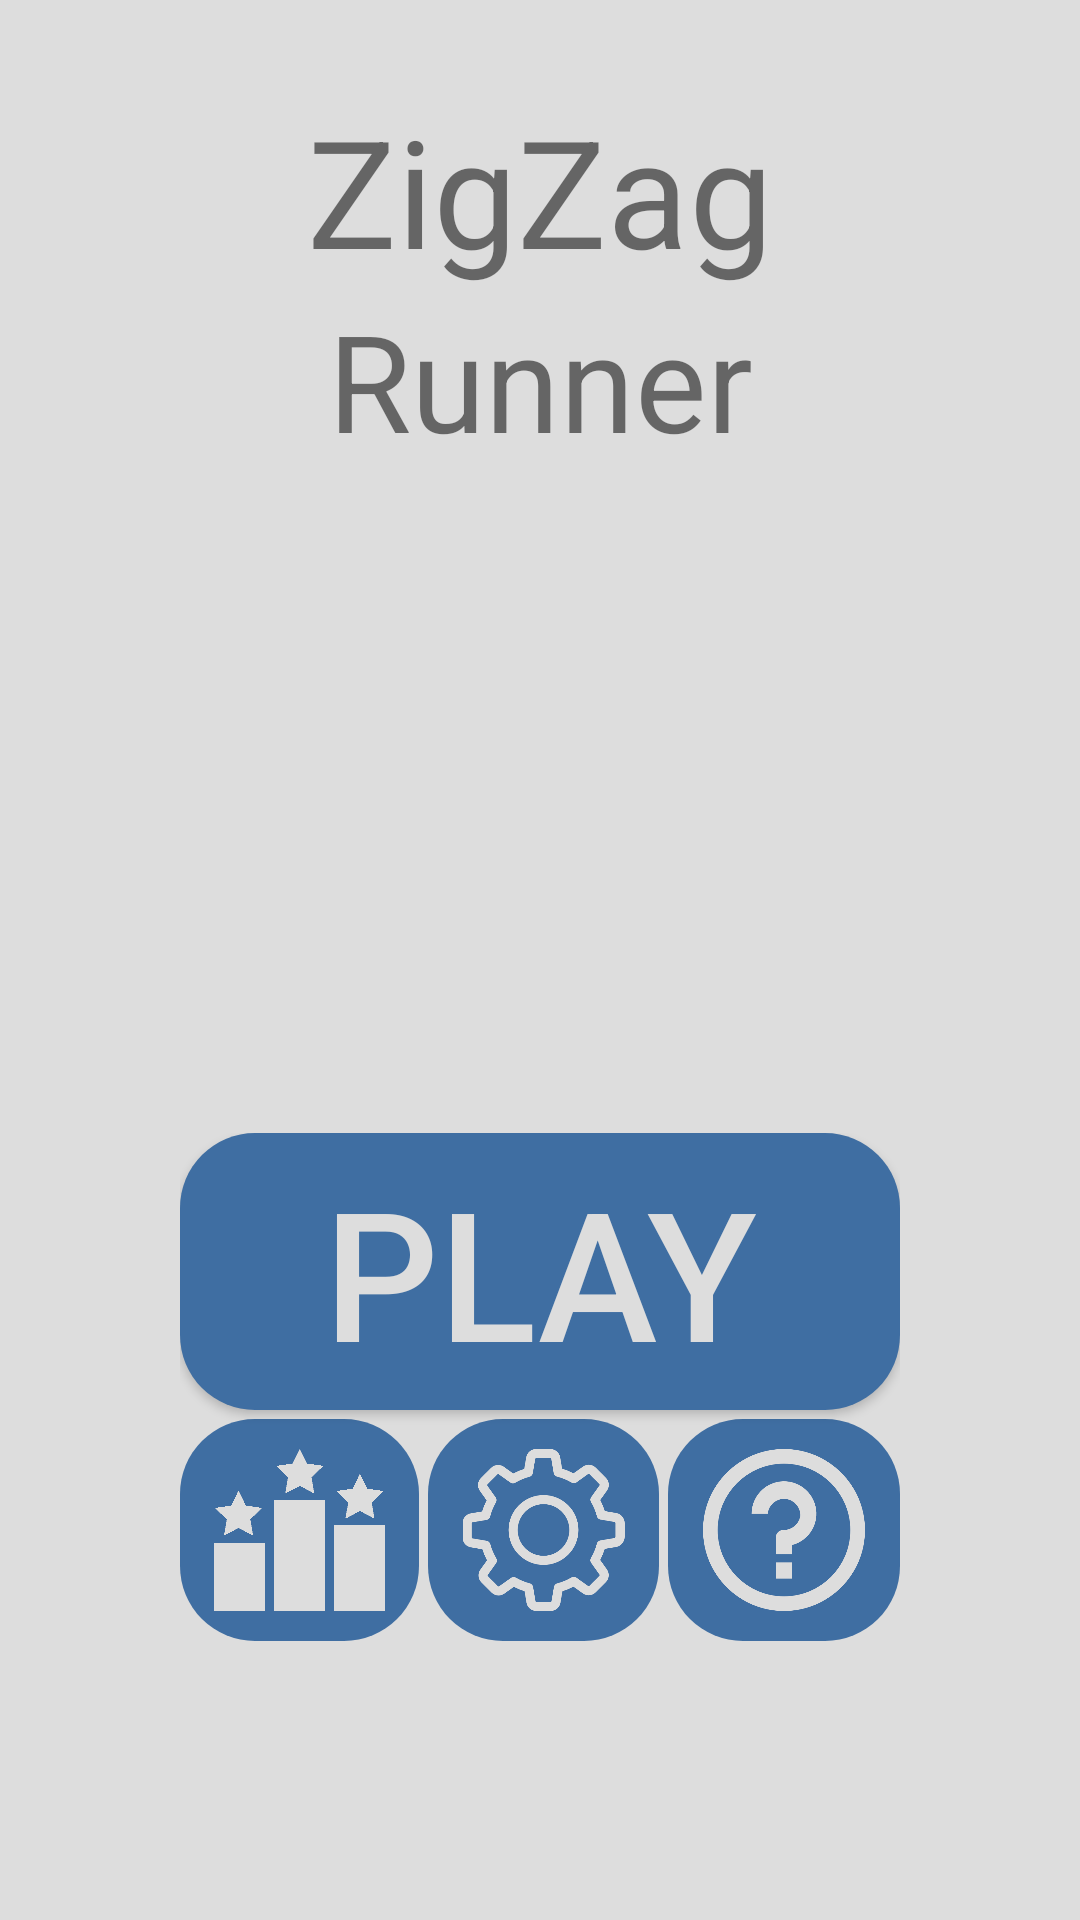

Screen size 1080 x 1920. Icon name, then its box in pixels as bbox=(x1, y1, x2, y2):
question: bbox=(668, 1419, 900, 1641)
rank: bbox=(180, 1419, 419, 1641)
settings: bbox=(428, 1419, 659, 1641)
